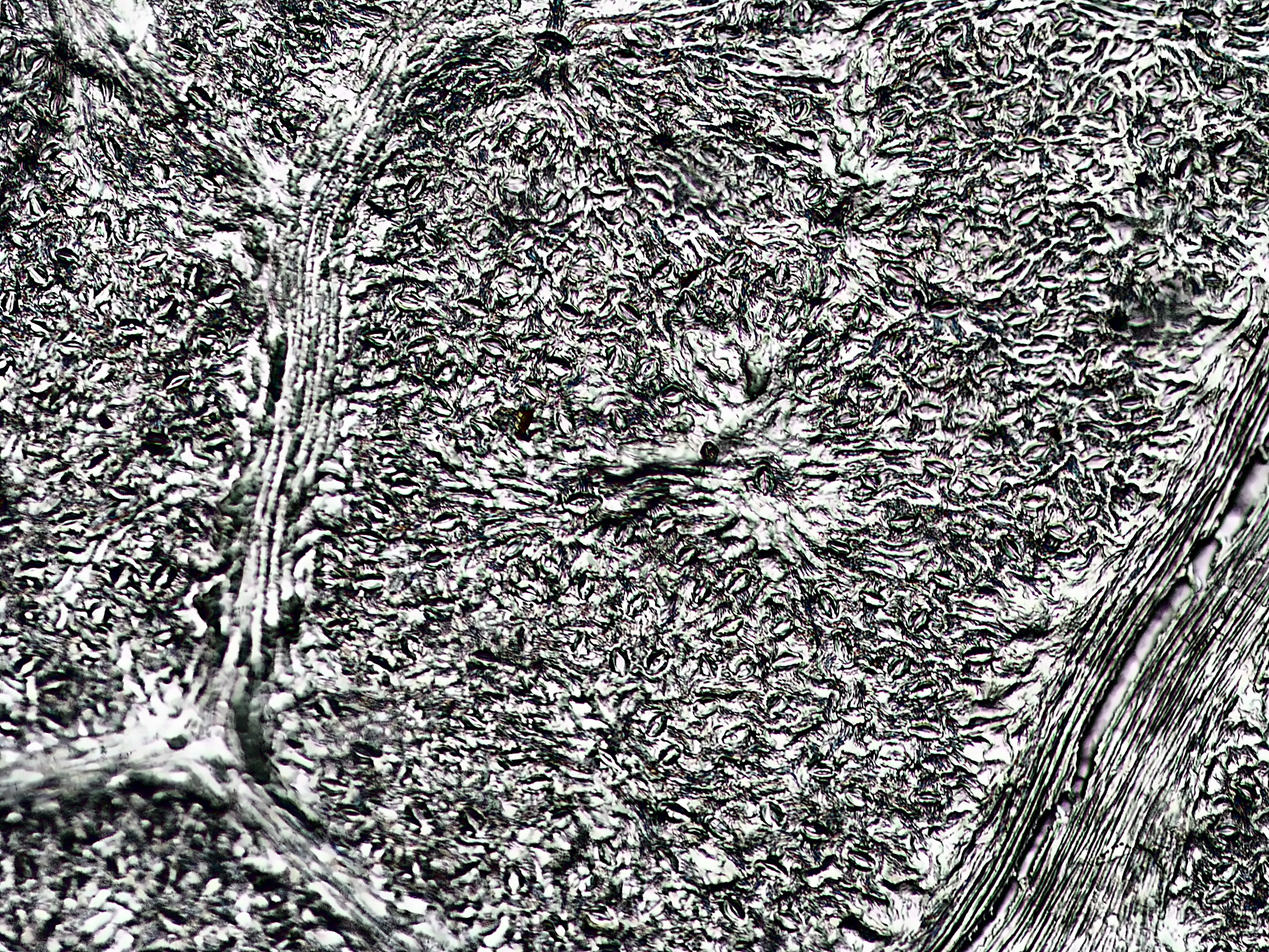stomata: (145, 561, 188, 606), (142, 797, 184, 840), (60, 823, 112, 855), (35, 680, 81, 714), (400, 796, 441, 834), (4, 901, 41, 942), (7, 852, 43, 890), (14, 600, 55, 633), (154, 901, 193, 934), (578, 902, 620, 932), (204, 902, 249, 930), (250, 872, 292, 902), (360, 795, 402, 823), (891, 809, 924, 843), (58, 871, 91, 905), (102, 559, 137, 591), (83, 597, 115, 632), (530, 31, 571, 58), (146, 861, 174, 900), (31, 715, 70, 743), (85, 209, 116, 244), (425, 741, 470, 765), (801, 258, 828, 298), (623, 21, 663, 48), (498, 862, 526, 900), (454, 804, 486, 836), (313, 534, 348, 563), (538, 914, 573, 942), (751, 859, 793, 882), (719, 895, 750, 926), (310, 692, 342, 722), (382, 470, 422, 494), (95, 849, 127, 879), (1179, 7, 1219, 31), (517, 773, 555, 798), (79, 448, 115, 474), (655, 796, 692, 821), (493, 747, 537, 768), (185, 85, 218, 113), (561, 492, 604, 513), (173, 514, 206, 541), (74, 638, 109, 663), (363, 496, 394, 524), (816, 588, 843, 620), (140, 432, 172, 459), (1076, 446, 1112, 470), (448, 858, 481, 884), (144, 154, 170, 187), (445, 901, 479, 926), (643, 647, 670, 678), (594, 744, 621, 775), (399, 417, 437, 439), (551, 410, 583, 436), (417, 396, 456, 417), (832, 631, 856, 665), (652, 845, 681, 873), (758, 801, 788, 828), (720, 720, 750, 747), (995, 535, 1025, 562), (0, 718, 26, 749), (55, 541, 90, 564), (364, 653, 396, 678), (98, 133, 123, 165), (389, 290, 427, 311), (769, 908, 805, 930), (313, 563, 349, 585), (593, 841, 621, 869), (522, 675, 550, 703), (705, 814, 732, 843), (13, 555, 47, 578), (883, 262, 917, 285), (693, 842, 723, 868), (178, 263, 204, 293), (1072, 313, 1109, 334), (751, 465, 776, 496), (930, 23, 965, 45), (8, 652, 40, 676), (144, 120, 176, 144), (231, 72, 263, 96), (393, 257, 425, 281), (304, 797, 337, 820), (148, 625, 181, 648), (350, 527, 386, 548), (269, 115, 297, 142), (166, 40, 194, 67), (601, 405, 630, 431), (521, 380, 550, 406), (843, 848, 877, 870), (676, 289, 700, 320), (654, 90, 685, 114), (688, 694, 720, 717), (192, 172, 224, 195), (203, 284, 238, 305), (1009, 205, 1044, 226), (1172, 155, 1198, 183), (385, 759, 418, 781), (729, 655, 758, 680), (924, 297, 962, 316), (692, 73, 730, 92), (497, 536, 527, 560), (1211, 858, 1241, 882), (454, 298, 490, 318), (291, 14, 325, 35), (27, 316, 58, 339), (723, 567, 750, 593), (601, 346, 627, 373), (415, 226, 441, 253), (960, 645, 995, 665), (25, 189, 49, 218), (927, 606, 948, 639), (850, 380, 883, 401), (695, 143, 725, 166), (54, 337, 90, 356), (348, 743, 379, 765), (399, 633, 425, 659), (150, 296, 177, 321), (468, 416, 500, 437), (654, 744, 683, 767), (120, 209, 139, 244), (1210, 83, 1245, 102), (906, 680, 939, 700), (1203, 883, 1233, 905), (1188, 203, 1221, 223), (877, 107, 910, 127), (476, 335, 507, 356), (84, 357, 109, 383), (803, 182, 828, 208), (907, 721, 943, 739), (0, 0, 24, 27), (498, 442, 525, 466), (710, 22, 746, 40), (357, 329, 395, 346), (893, 230, 927, 249), (1093, 88, 1116, 116), (673, 825, 705, 845), (316, 774, 348, 794), (21, 439, 53, 459), (852, 299, 872, 331), (431, 360, 460, 382), (836, 704, 866, 725), (1214, 816, 1244, 837), (1215, 137, 1245, 158), (989, 166, 1024, 184), (1223, 168, 1260, 185), (428, 511, 461, 530), (1080, 265, 1113, 284), (537, 187, 562, 212), (905, 607, 929, 633), (614, 302, 641, 325), (1022, 443, 1049, 466), (779, 305, 802, 332), (711, 616, 742, 636), (420, 548, 451, 568), (607, 648, 629, 676), (115, 316, 143, 338), (74, 306, 102, 328), (402, 336, 438, 353), (766, 616, 795, 637), (951, 406, 980, 427), (542, 357, 574, 376), (1129, 248, 1161, 267), (1144, 192, 1176, 211), (958, 771, 983, 795), (10, 227, 35, 251), (466, 218, 491, 242), (884, 656, 910, 679), (763, 694, 789, 717), (636, 356, 659, 382), (626, 140, 652, 163), (843, 786, 870, 808), (696, 652, 718, 679), (548, 810, 575, 832), (614, 519, 636, 546), (200, 431, 233, 449), (516, 332, 549, 350), (1143, 80, 1176, 98), (954, 101, 987, 119), (848, 484, 879, 503), (336, 806, 367, 825), (577, 570, 596, 601), (354, 572, 385, 591), (247, 38, 275, 59), (969, 434, 997, 455), (513, 582, 542, 602), (96, 73, 116, 102), (508, 233, 537, 253), (926, 571, 958, 589), (806, 762, 838, 780), (480, 689, 512, 707), (135, 250, 167, 268), (791, 0, 815, 24), (621, 204, 645, 228), (626, 592, 649, 617), (25, 53, 50, 76), (797, 821, 827, 840), (803, 372, 833, 391), (689, 577, 710, 604), (921, 458, 954, 475), (771, 653, 804, 670), (908, 402, 941, 419), (648, 513, 676, 533), (407, 534, 447, 548), (771, 258, 791, 286), (856, 590, 887, 608), (417, 604, 448, 622), (209, 18, 240, 36), (674, 543, 697, 567), (700, 303, 723, 327), (524, 125, 547, 149), (572, 631, 591, 660), (163, 372, 192, 391), (413, 349, 435, 374), (495, 277, 521, 298), (368, 423, 400, 440), (728, 109, 760, 126), (582, 350, 609, 370), (993, 406, 1023, 424), (1234, 781, 1257, 804), (51, 517, 84, 533), (1002, 311, 1035, 327), (646, 713, 667, 738), (404, 175, 425, 200), (1243, 194, 1268, 215), (470, 648, 499, 666), (968, 471, 994, 491), (878, 354, 904, 374), (37, 142, 64, 161), (660, 385, 687, 404), (499, 175, 526, 194), (1064, 211, 1094, 228), (927, 751, 949, 774), (459, 712, 487, 730), (1046, 523, 1074, 541), (106, 482, 134, 500), (14, 119, 35, 143), (832, 411, 860, 429), (888, 331, 909, 355), (322, 615, 358, 629), (994, 53, 1014, 78), (523, 711, 554, 727), (1118, 396, 1149, 412), (811, 230, 842, 246), (127, 532, 156, 549), (910, 791, 942, 806), (27, 263, 51, 283), (1139, 131, 1171, 146), (1003, 103, 1033, 119), (885, 515, 919, 529), (430, 596, 458, 613), (0, 35, 17, 63), (973, 197, 1001, 214), (924, 184, 952, 201), (0, 289, 19, 314), (557, 301, 582, 320), (621, 719, 647, 737), (978, 364, 1004, 382), (1039, 80, 1065, 98), (989, 20, 1020, 35), (170, 391, 192, 412), (455, 183, 477, 204), (650, 261, 673, 281), (36, 296, 63, 313), (417, 114, 444, 131), (193, 332, 217, 351), (945, 521, 975, 536), (54, 246, 79, 264), (919, 366, 944, 384), (791, 97, 809, 122), (49, 90, 66, 116), (1052, 18, 1078, 35), (700, 441, 720, 463), (825, 539, 852, 555), (518, 559, 542, 577), (96, 279, 112, 306), (724, 251, 748, 269), (947, 783, 967, 804), (1020, 494, 1050, 508), (56, 171, 76, 192), (743, 478, 765, 497), (754, 300, 773, 322), (567, 676, 584, 700), (540, 547, 556, 572), (931, 584, 950, 605), (1078, 502, 1100, 520), (465, 129, 483, 151), (928, 824, 948, 843), (75, 283, 94, 303), (587, 235, 606, 255), (430, 138, 451, 156), (1218, 216, 1239, 234), (551, 540, 566, 565), (1038, 274, 1063, 289), (1200, 272, 1225, 287), (599, 331, 621, 348), (799, 333, 821, 350), (953, 149, 970, 171), (223, 342, 247, 357), (873, 786, 889, 807), (1017, 137, 1042, 150), (926, 138, 955, 149), (226, 325, 240, 346), (442, 183, 455, 203), (565, 270, 582, 285)
